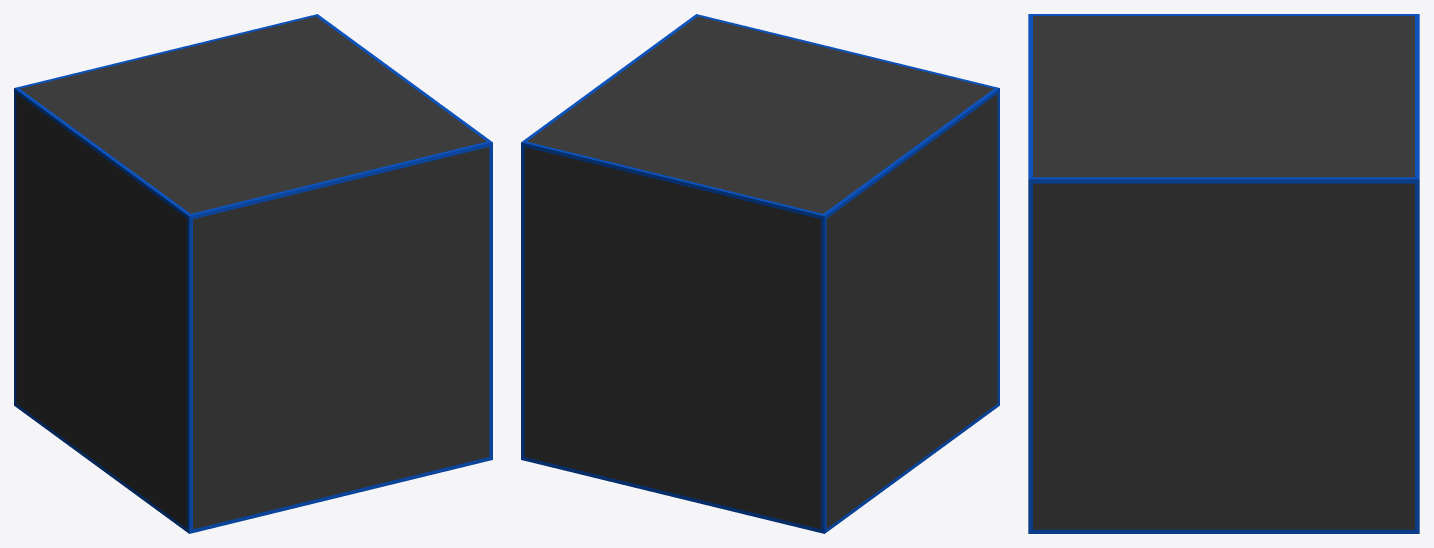
The model's file is maze_box_destructed_LOW.fbx.
The picture shows the model from 3 angles, left to right: view 1: azimuth 30°, elevation 25°; view 2: azimuth 150°, elevation 25°; view 3: azimuth 270°, elevation 25°; orthographic projection. The views are drawn at different scales.
Parts seen in each view (by area): view 1: Cube.001_shard.004, Cube.001_shard.007, Cube.001_shard.009, Cube.001_shard.001, Cube.001_shard.008, Cube.001_shard.006, Cube.001_shard, Cube.001_shard.002, Cube.001_shard.005; view 2: Cube.001_shard.006, Cube.001_shard.009, Cube.001_shard.004, Cube.001_shard.003, Cube.001_shard.007, Cube.001_shard.008, Cube.001_shard.005, Cube.001_shard.002; view 3: Cube.001_shard.005, Cube.001_shard.001, Cube.001_shard.007, Cube.001_shard.009, Cube.001_shard.008, Cube.001_shard, Cube.001_shard.003.
Part boxes in pixels (x1,y1,x2,y2): Cube.001_shard.004: (46, 256, 347, 533); Cube.001_shard.007: (114, 107, 492, 350); Cube.001_shard.009: (14, 32, 253, 258); Cube.001_shard.001: (336, 207, 492, 478); Cube.001_shard.008: (241, 22, 443, 147); Cube.001_shard.006: (14, 121, 104, 382); Cube.001_shard: (329, 431, 492, 499); Cube.001_shard.002: (14, 360, 51, 432); Cube.001_shard.005: (284, 14, 378, 58); Cube.001_shard.006: (571, 169, 915, 488); Cube.001_shard.009: (598, 98, 975, 253); Cube.001_shard.004: (857, 143, 999, 506); Cube.001_shard.003: (521, 305, 719, 500); Cube.001_shard.007: (648, 14, 999, 236); Cube.001_shard.008: (555, 49, 827, 174); Cube.001_shard.005: (521, 97, 603, 363); Cube.001_shard.002: (689, 410, 861, 533); Cube.001_shard.005: (1116, 161, 1419, 502); Cube.001_shard.001: (1028, 251, 1205, 501); Cube.001_shard.007: (1028, 14, 1165, 285); Cube.001_shard.009: (1082, 14, 1419, 137); Cube.001_shard.008: (1135, 78, 1419, 219); Cube.001_shard: (1028, 459, 1257, 533); Cube.001_shard.003: (1252, 427, 1419, 533).
Size of the model in its own units: 200 by 200 by 200.
